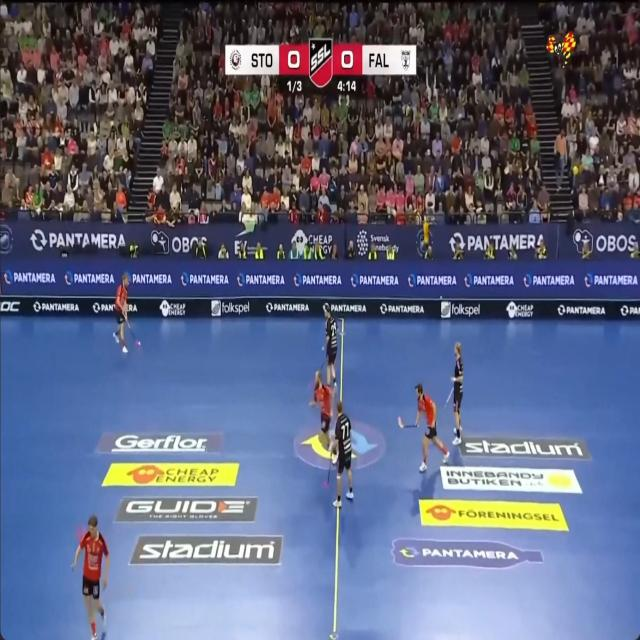Balls: (138, 341, 141, 345)
player: (72, 515, 108, 639), (415, 383, 449, 472), (331, 400, 353, 507), (309, 371, 333, 452), (114, 273, 129, 352), (452, 341, 463, 444), (325, 308, 337, 385), (398, 417, 404, 428), (331, 453, 337, 463)
stick: (128, 321, 140, 346), (324, 451, 332, 488), (444, 388, 453, 408), (128, 321, 136, 340)
